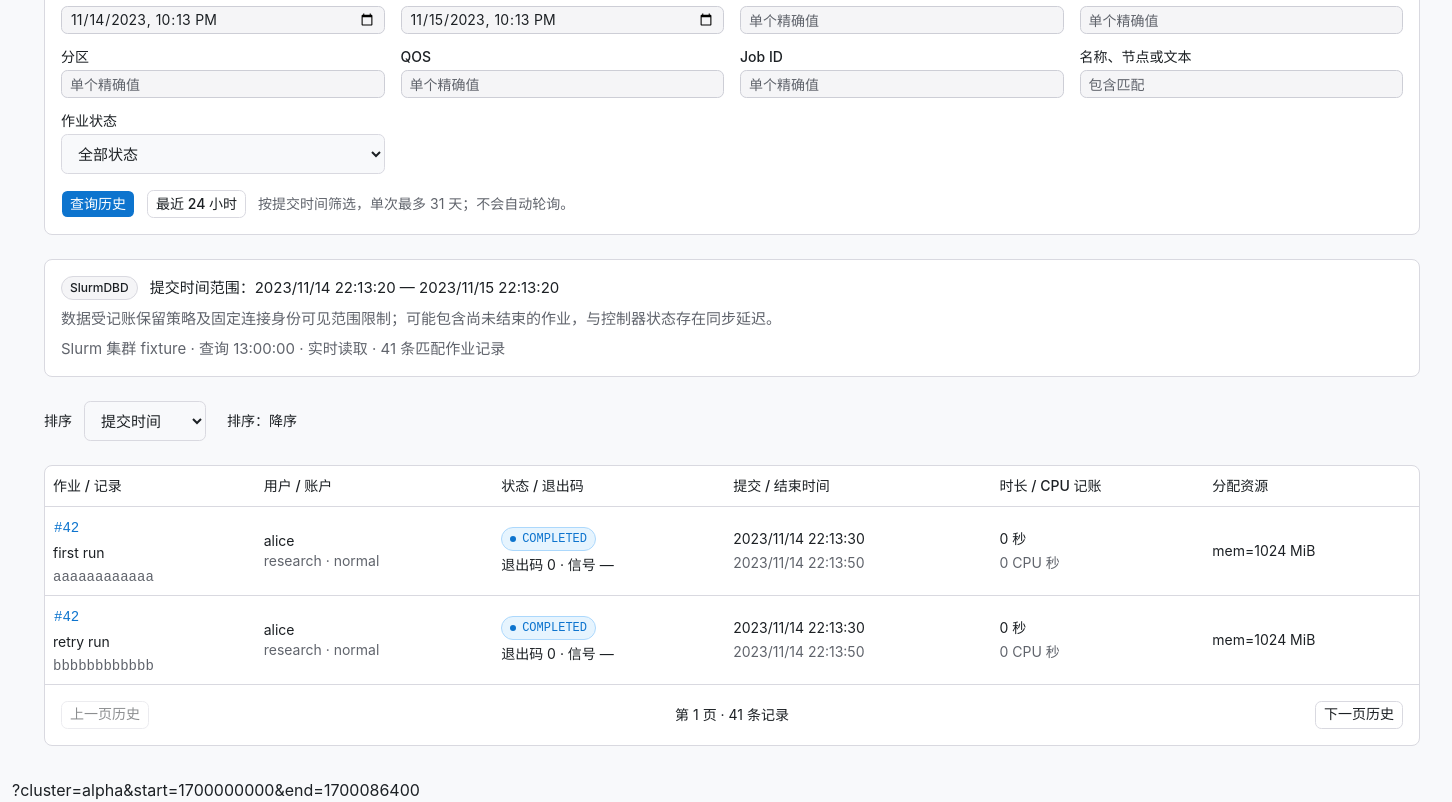
Test: preserves window when paging and does not combine steps into rows
The image size is (1452, 802).
(page scrolled)
Expected: the table is shown, [45,466,1419,684]
Click the button "下一页历史" at (1359, 714), box [1315,700,1403,728]
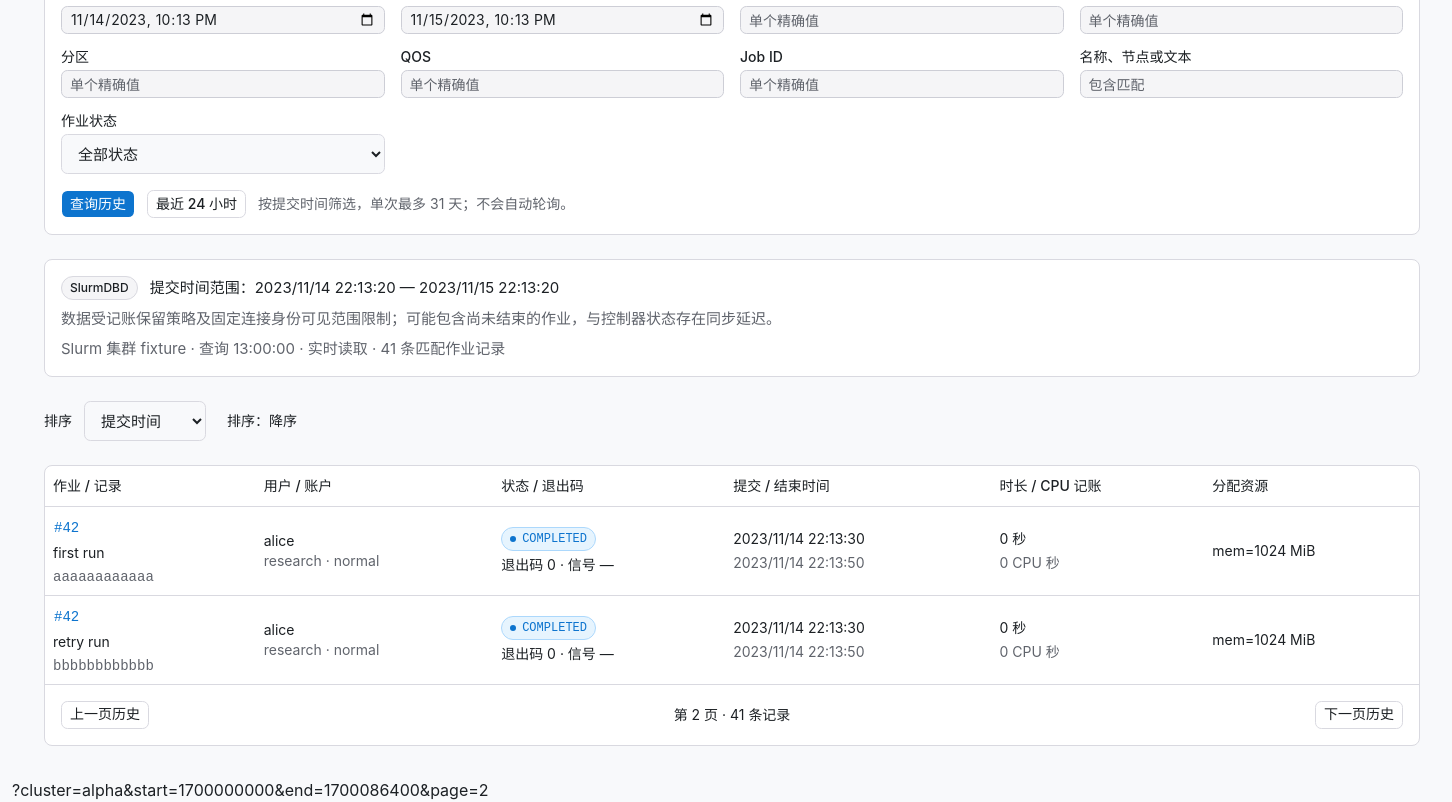
Expected: the text named "历史查询 URL" shows "start=1700000000", [12,780,489,800]
Expected: the text named "历史查询 URL" shows "page=2", [12,780,489,800]
